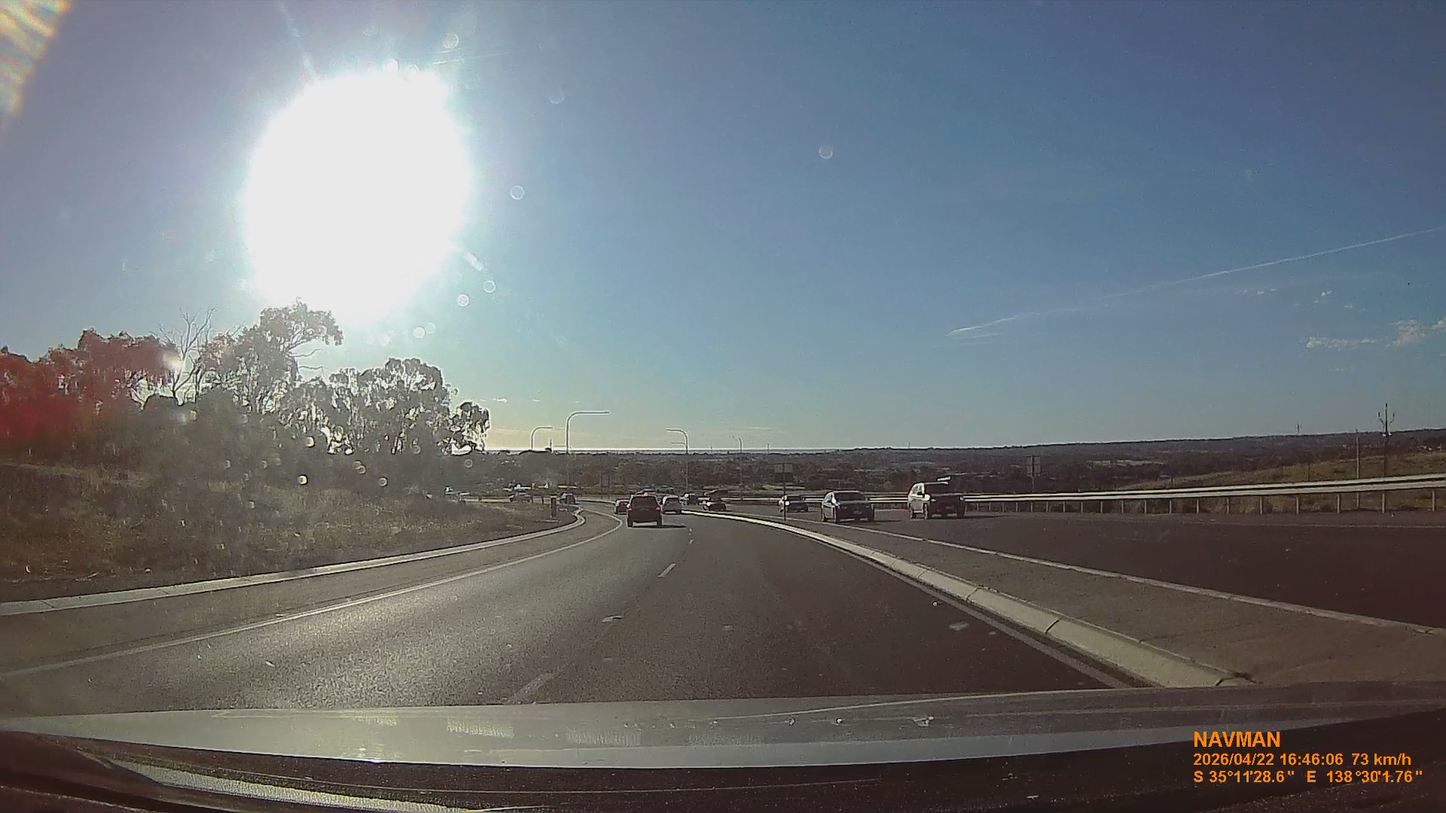road barriers: (943, 475, 1445, 517), (871, 495, 908, 522)
